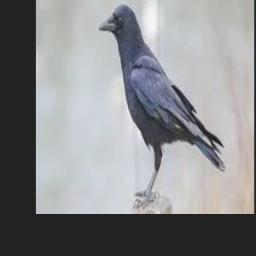Crow: (99, 4, 226, 209)
